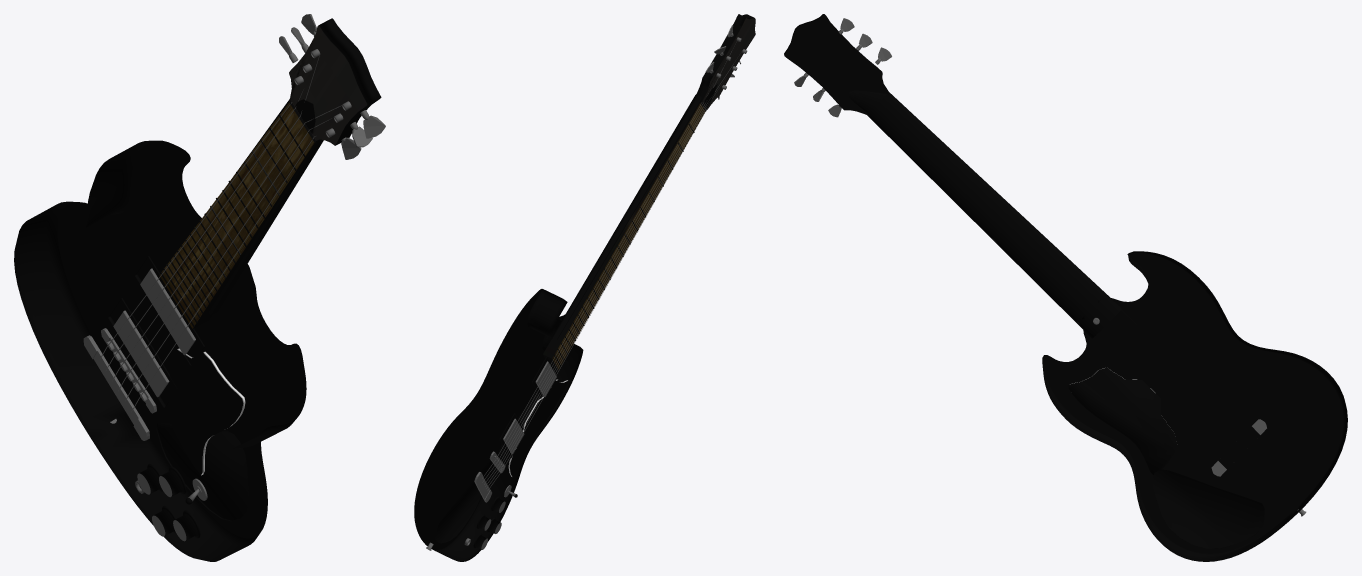
Rendered from guitar-fender-classic.glb.
The picture shows the model from 3 angles, left to right: view 1: azimuth 30°, elevation 25°; view 2: azimuth 150°, elevation 25°; view 3: azimuth 270°, elevation 25°; orthographic projection. The views are drawn at different scales.
Parts seen in each view (by area): view 1: Corps_0, Manche.002_0, Corps_3; view 2: Corps_0, Manche.002_0, Corps_3; view 3: Corps_0, Manche.002_0, Corps_3.
Part boxes in pixels (x1=…): Corps_0: x1=14, y1=140, x2=306, y2=561; Manche.002_0: x1=159, y1=18, x2=381, y2=328; Corps_3: x1=83, y1=14, x2=385, y2=541; Corps_0: x1=414, y1=289, x2=583, y2=561; Manche.002_0: x1=543, y1=14, x2=755, y2=369; Corps_3: x1=426, y1=25, x2=747, y2=550; Corps_0: x1=1042, y1=251, x2=1347, y2=561; Manche.002_0: x1=784, y1=14, x2=1136, y2=352; Corps_3: x1=794, y1=18, x2=1306, y2=516.
Size of the model in its own units: 63.16 by 214 by 223.
4 materials, 1 textured.
